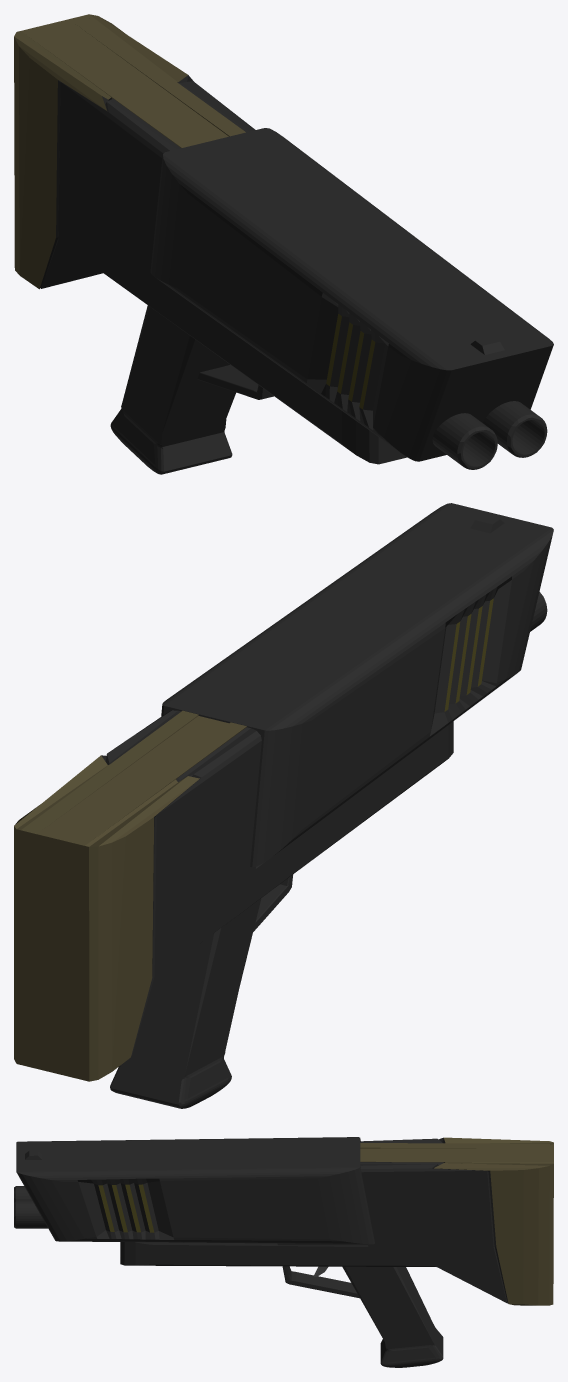
Rendered from ModernShotgun.fbx.
3 renders of one model, top to bottom at view 1: azimuth 30°, elevation 25°; view 2: azimuth 150°, elevation 25°; view 3: azimuth 270°, elevation 25°, orthographic. The views are drawn at different scales.
Parts seen in each view (by area): view 1: Chassis, Rack; view 2: Rack, Chassis; view 3: Rack, Chassis.
Boxes of the visible parts, x1=… form: Chassis: x1=150, y1=128, x2=553, y2=469; Rack: x1=14, y1=14, x2=407, y2=474; Rack: x1=14, y1=710, x2=453, y2=1108; Chassis: x1=161, y1=503, x2=553, y2=867; Rack: x1=120, y1=1137, x2=553, y2=1367; Chassis: x1=14, y1=1137, x2=374, y2=1244.
Size of the model in its own units: 200 by 538 by 1261.
